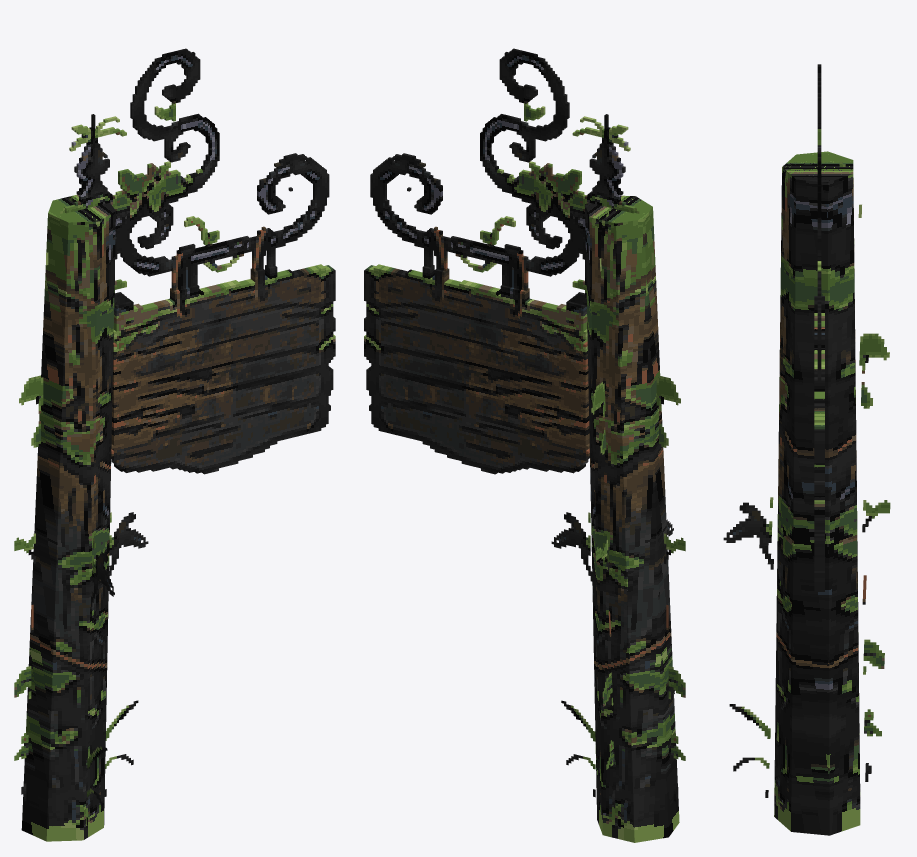
File: signpost-ivy.glb
3 views of the same model, side by side, from view 1: azimuth 30°, elevation 25°; view 2: azimuth 150°, elevation 25°; view 3: azimuth 270°, elevation 25° (orthographic). The views are drawn at different scales.
Parts seen in each view (by area): view 1: signpost-ivy-212-4; view 2: signpost-ivy-212-4; view 3: signpost-ivy-212-4.
Part boxes in pixels (bbox=[...]): signpost-ivy-212-4: bbox=[14, 48, 335, 841]; signpost-ivy-212-4: bbox=[364, 48, 685, 842]; signpost-ivy-212-4: bbox=[723, 64, 890, 835].
Size of the model in its own units: 1.65 by 3.68 by 0.783.
Materials: 1 (1 with a texture image).
